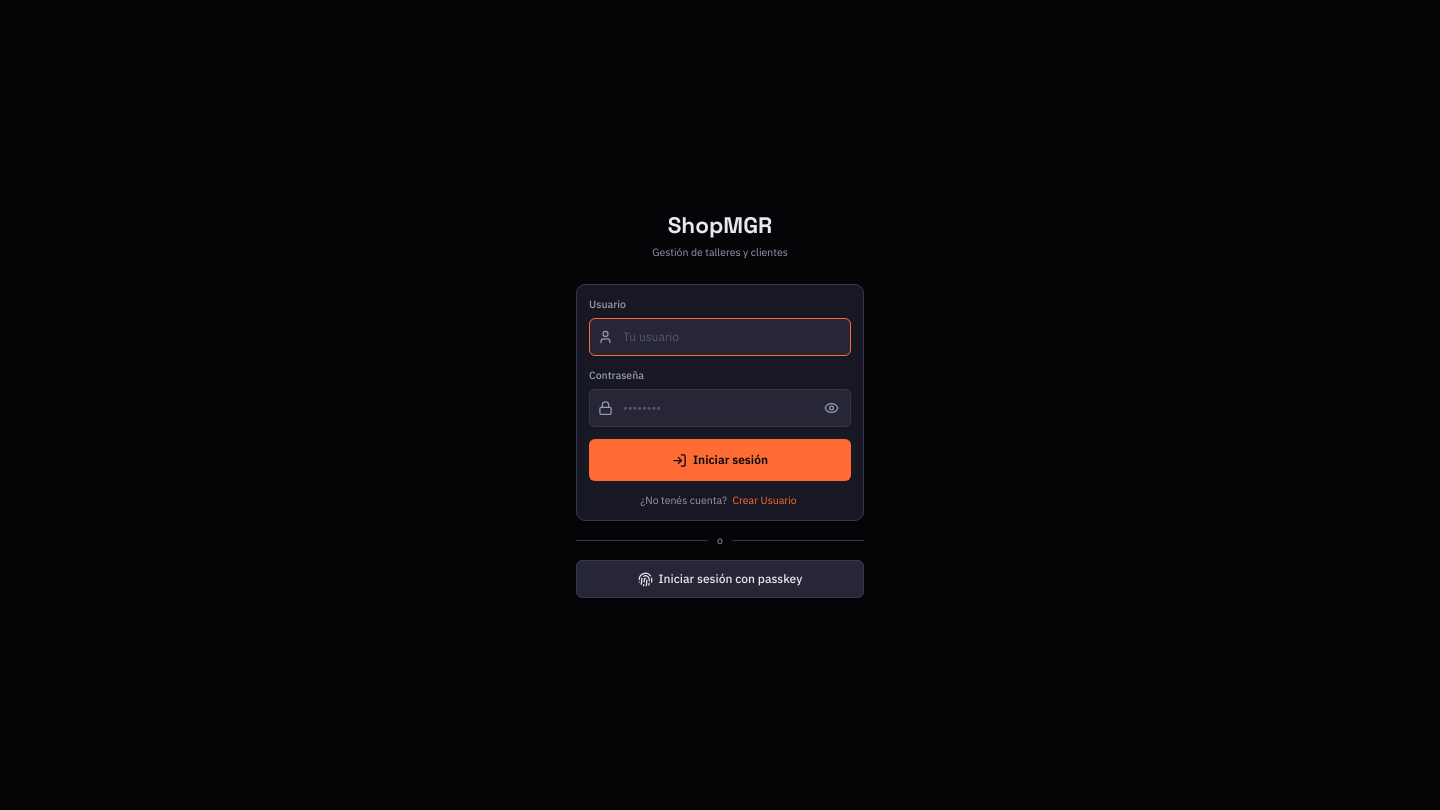
it: Login: toggle mostrar/ocultar contraseña (issue #96) › al abrir el modal, el campo del login vuelve a estar oculto
In the field labelled "Usuario": (720, 337) [589,318,851,356], type "juan"
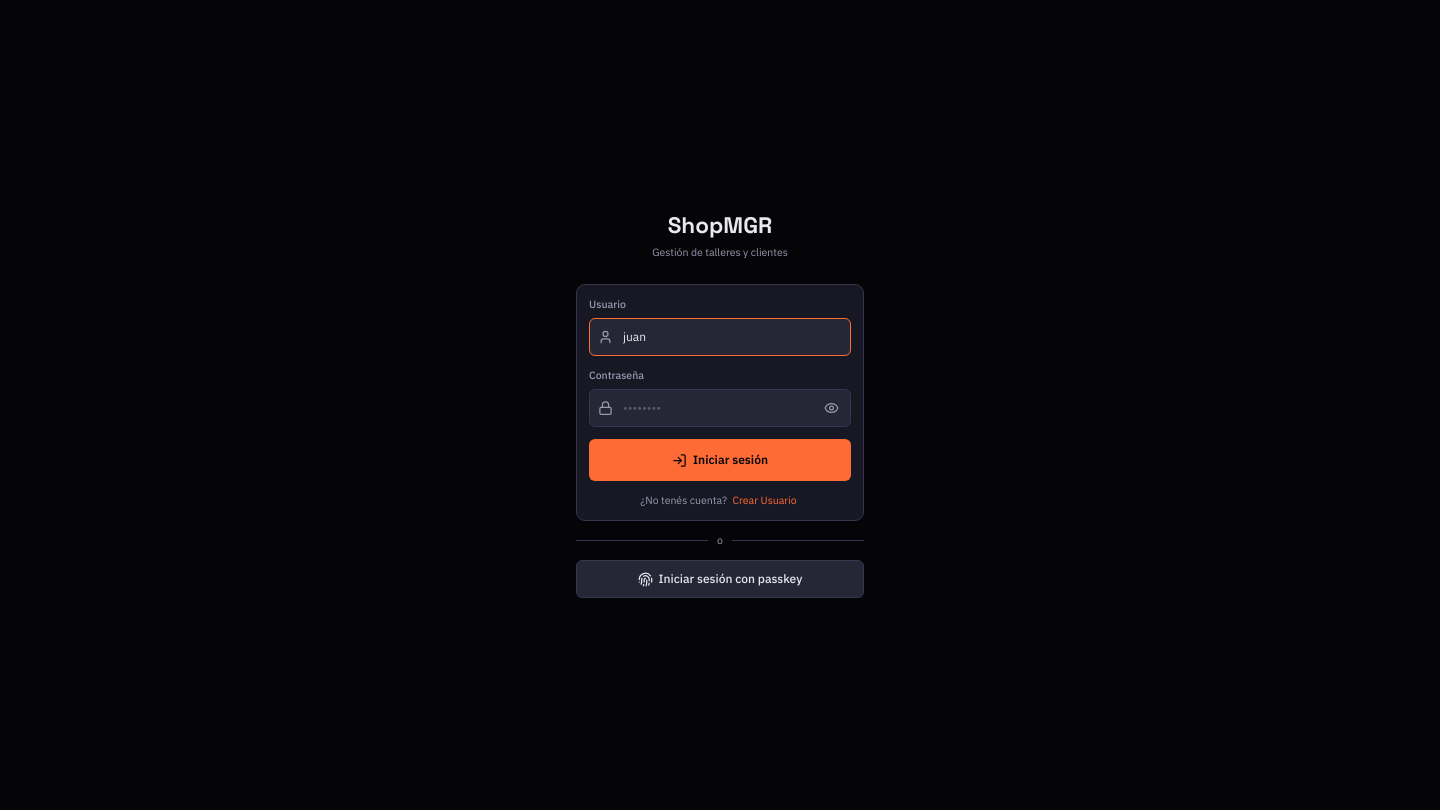
In the password field labelled "Contraseña": (720, 408) [589,389,851,427], type "secreto"
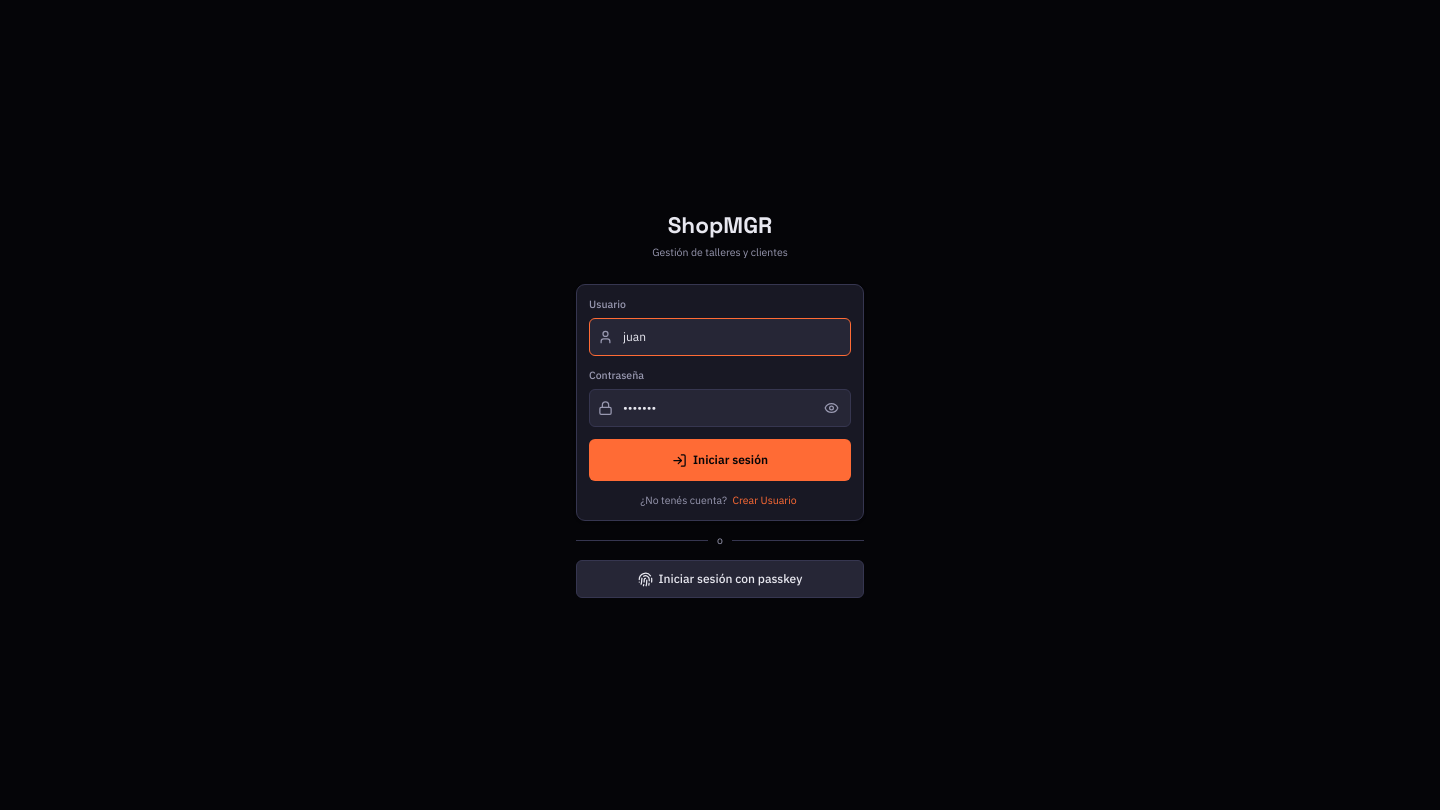
Click the button named "Mostrar contraseña": (832, 408) [818,394,845,422]
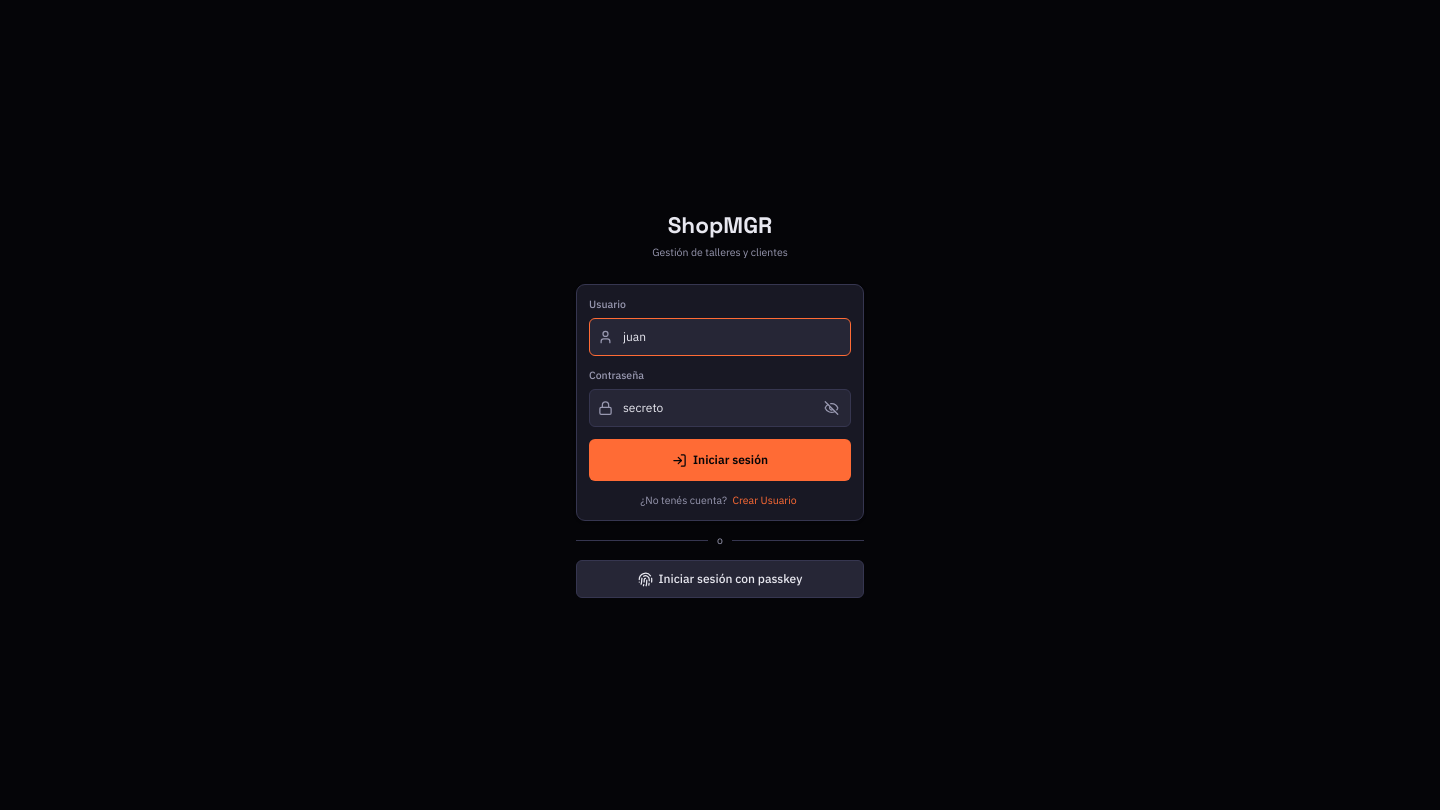
expect the field labelled "Contraseña" shows its text: met, box [589,389,851,427]
Click the button "Iniciar sesión": (720, 460) [589,439,851,481]
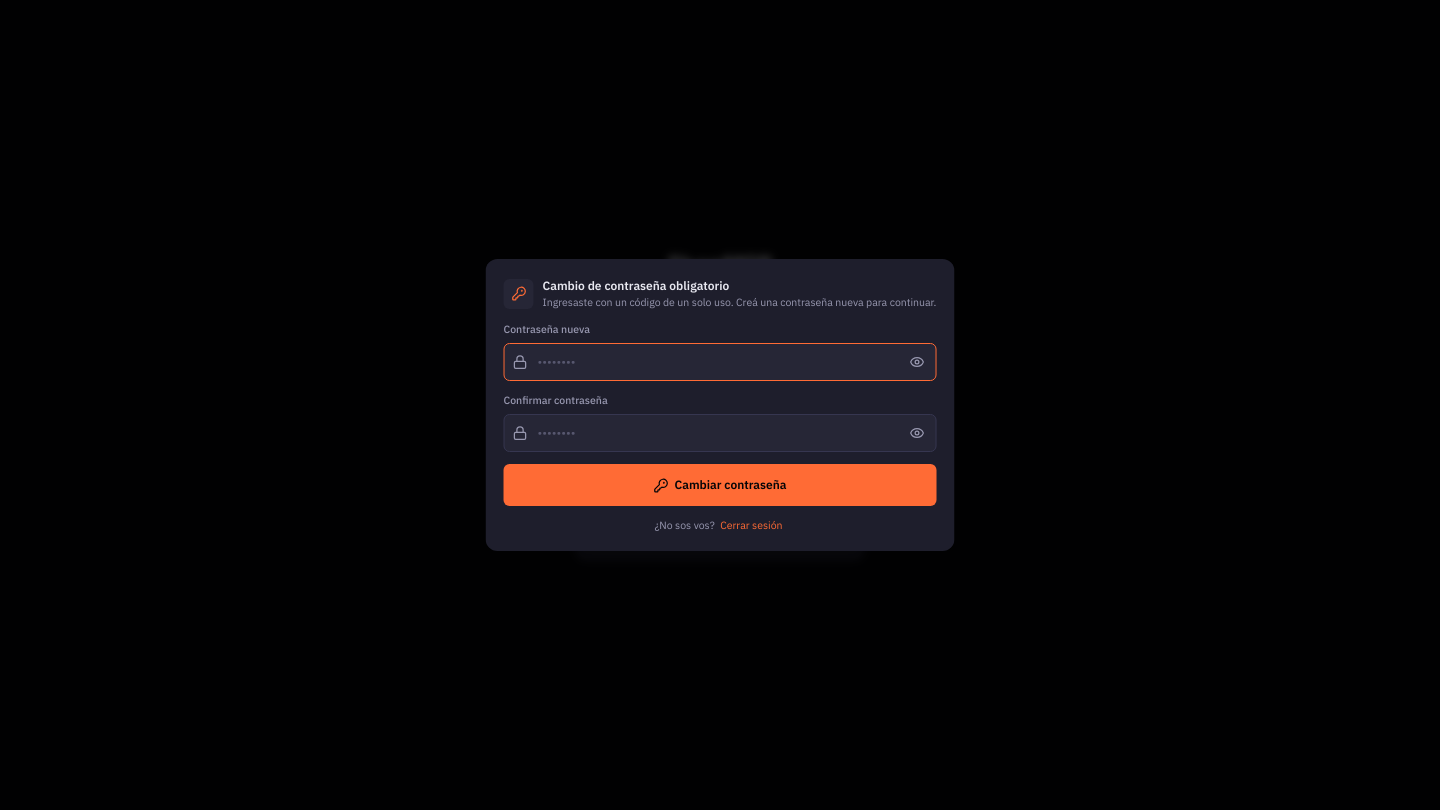
expect the dialog is shown: met, box [486,259,954,551]
expect the password field labelled "Contraseña" hides its text: met, box [589,428,851,466]
